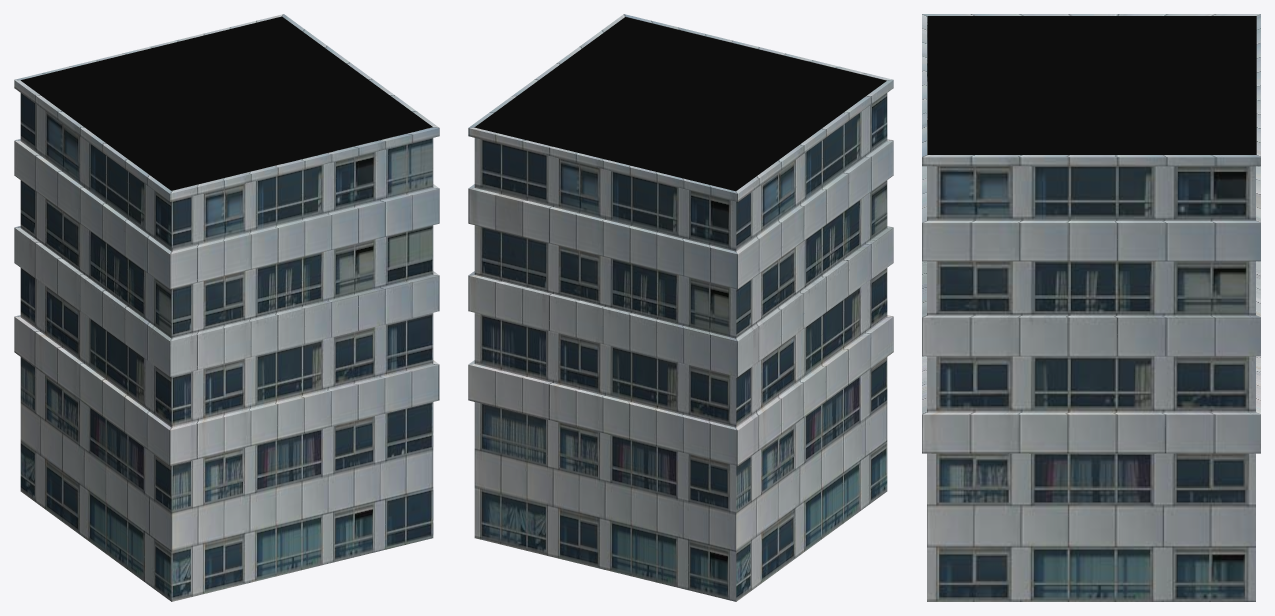
Rendered from building3.fbx.
The picture shows the model from 3 angles, left to right: view 1: azimuth 30°, elevation 25°; view 2: azimuth 150°, elevation 25°; view 3: azimuth 270°, elevation 25°; orthographic projection. The views are drawn at different scales.
Visible parts, largest first — view 1: Box014, Object007; view 2: Box014, Object007; view 3: Box014, Object007.
Part boxes in pixels (x1,y1,x2,y2): Box014: (14, 14, 439, 601); Object007: (21, 16, 432, 190); Box014: (468, 14, 893, 601); Object007: (474, 17, 886, 191); Box014: (922, 14, 1260, 601); Object007: (927, 16, 1256, 154).
Size of the model in its own units: 0.9929 by 1.44 by 0.9929.
2 materials, 1 textured.
